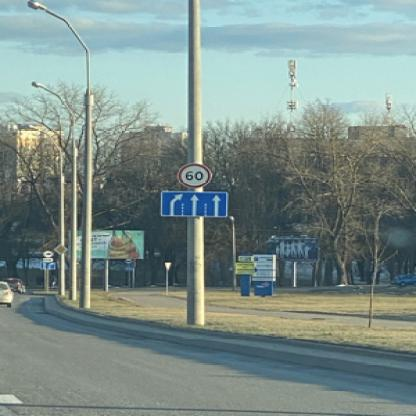crosswalk: (121, 262, 133, 272)
speedlimit: (176, 162, 209, 188)
